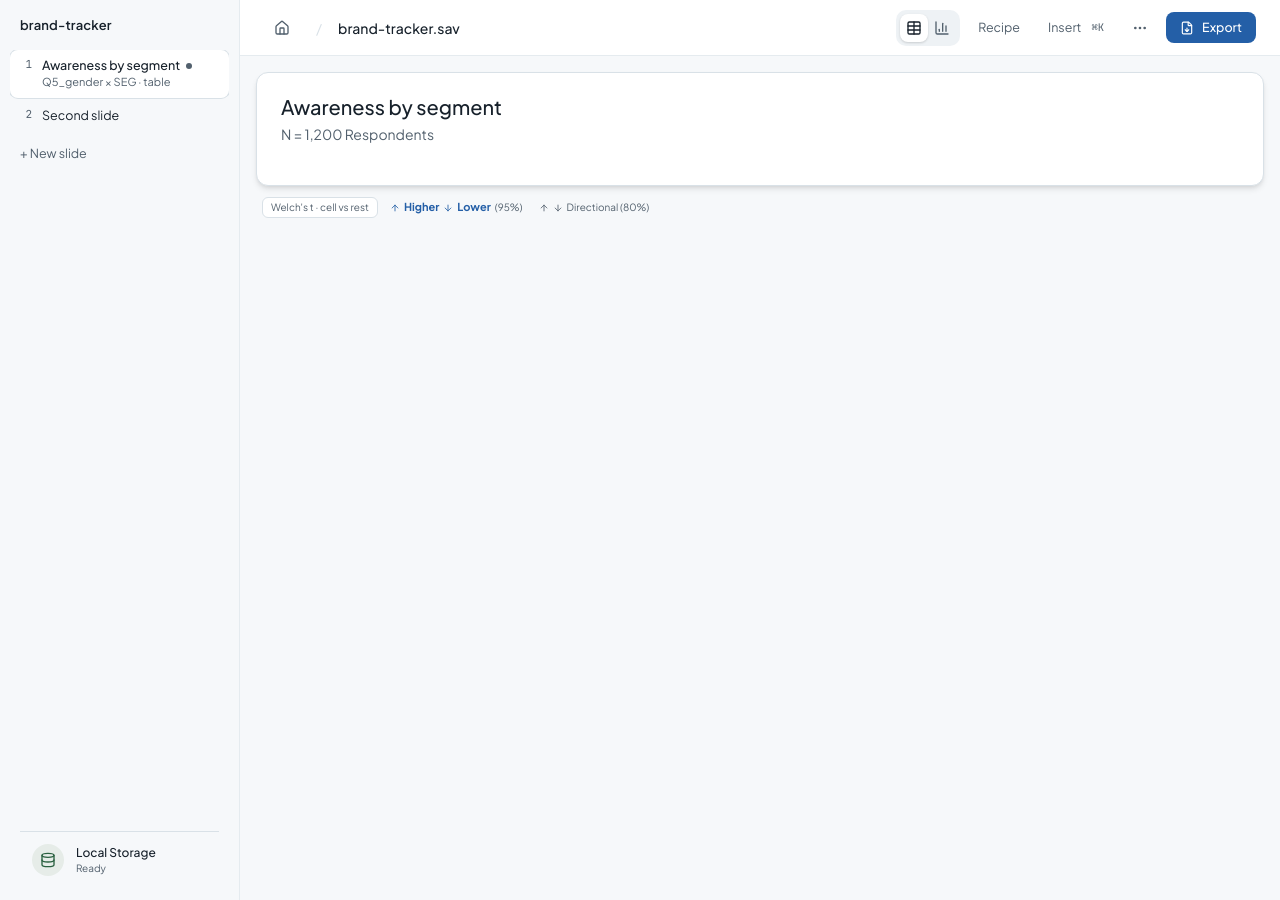
Test: DashboardShell (WP2.1 / WP2.3) › toggles RecipeInspector from the toolbar (collapsed by default)
This screenshot has width=1280, height=900.
Step 1. Click the button with test id "recipe-inspector-toggle" → (999, 28), box [968,12,1030,43]
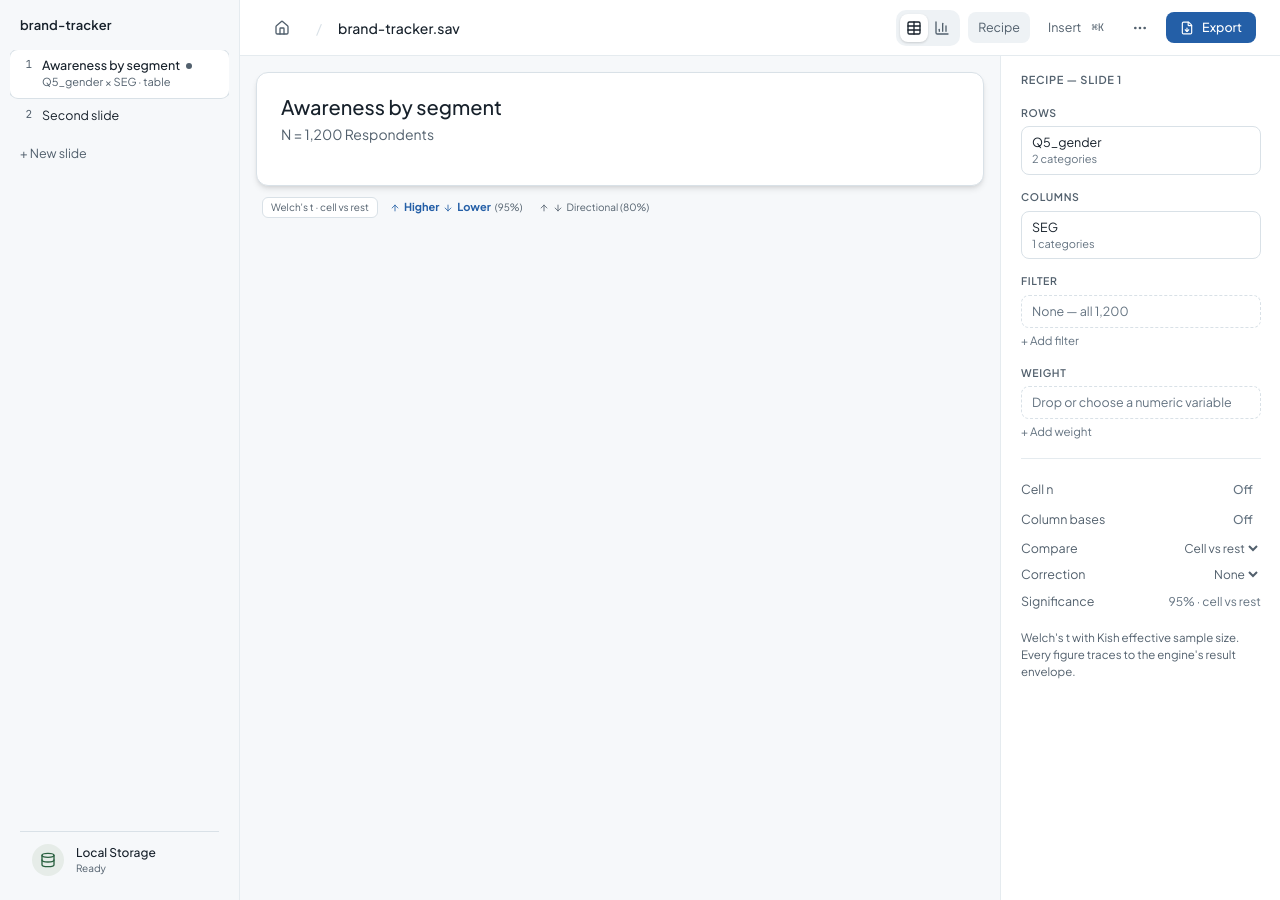
Check: the heading "Recipe — Slide 1" is shown, box [1021,73,1122,86]
Check: the text "Q5_gender" is shown, box [1032,134,1102,150]
Check: the text "SEG" is shown, box [1032,219,1058,235]
Step 2. Click the button with test id "recipe-inspector-toggle" → (999, 28), box [968,12,1030,43]
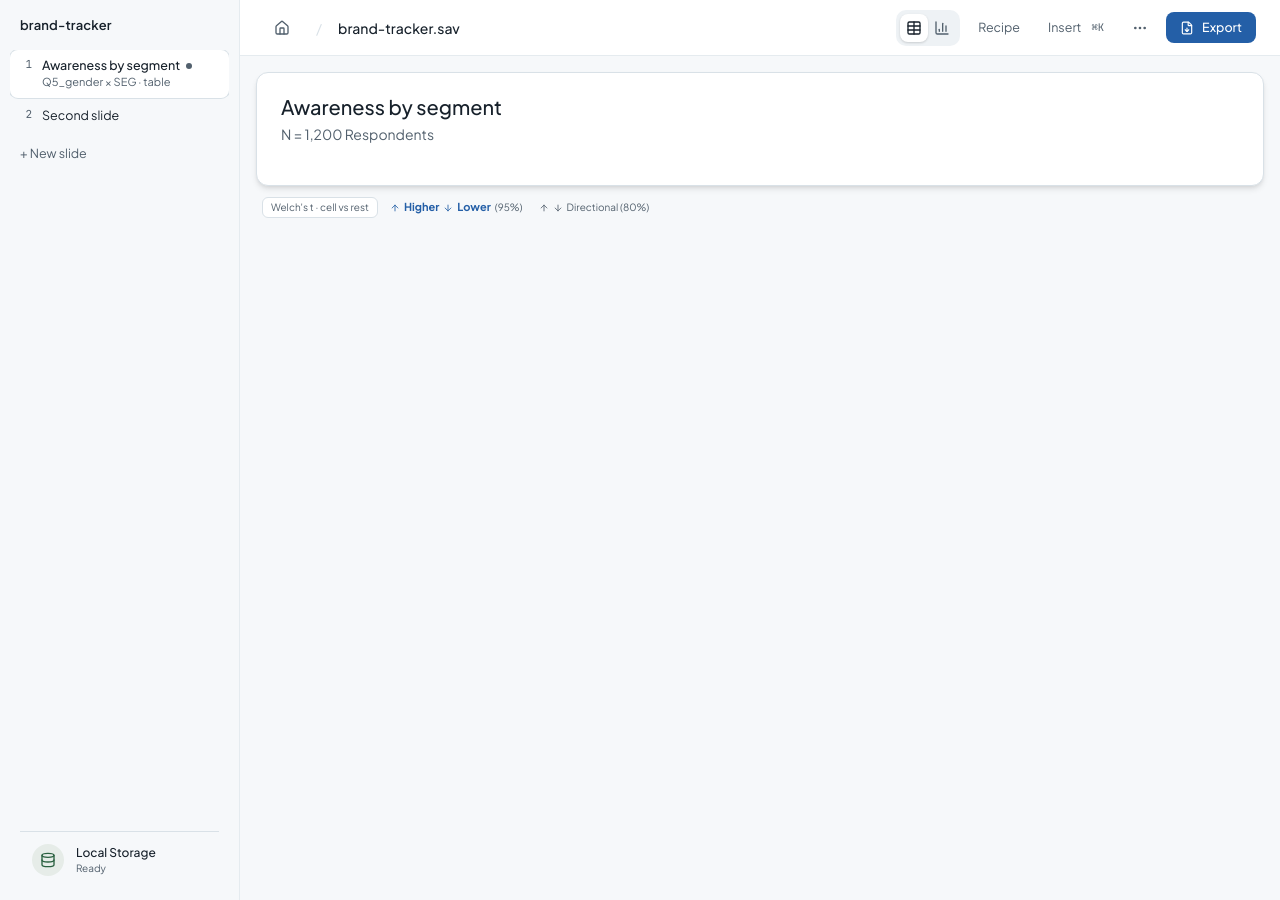
Check: the element with test id "recipe-inspector" is gone
